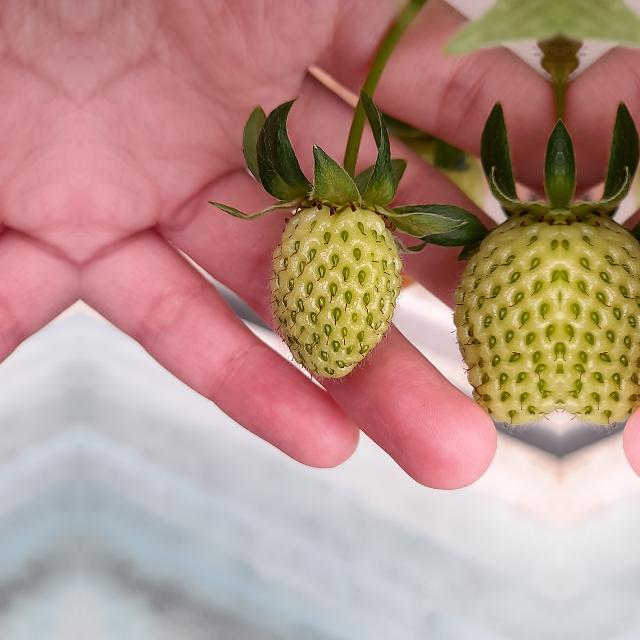Health_25: (451, 205, 559, 427), (269, 204, 401, 378), (561, 205, 640, 427)
